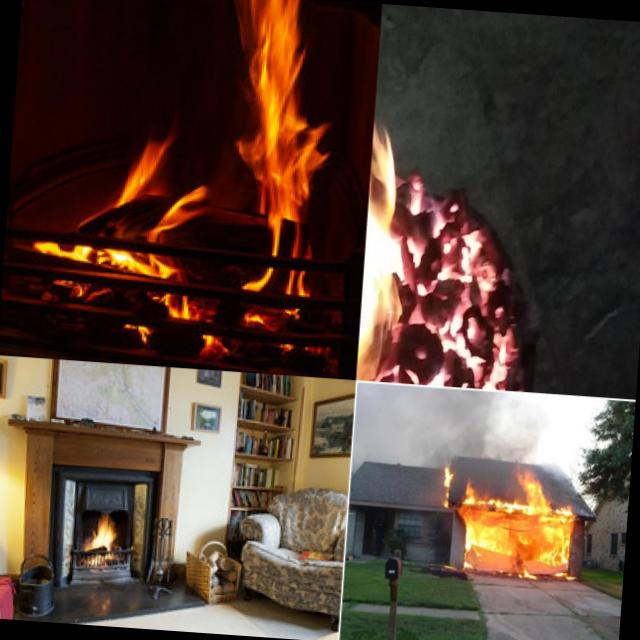fire: (42, 0, 345, 345), (356, 59, 498, 388), (459, 481, 578, 576), (85, 504, 124, 556), (440, 464, 458, 506)
smoke: (354, 386, 540, 462)
